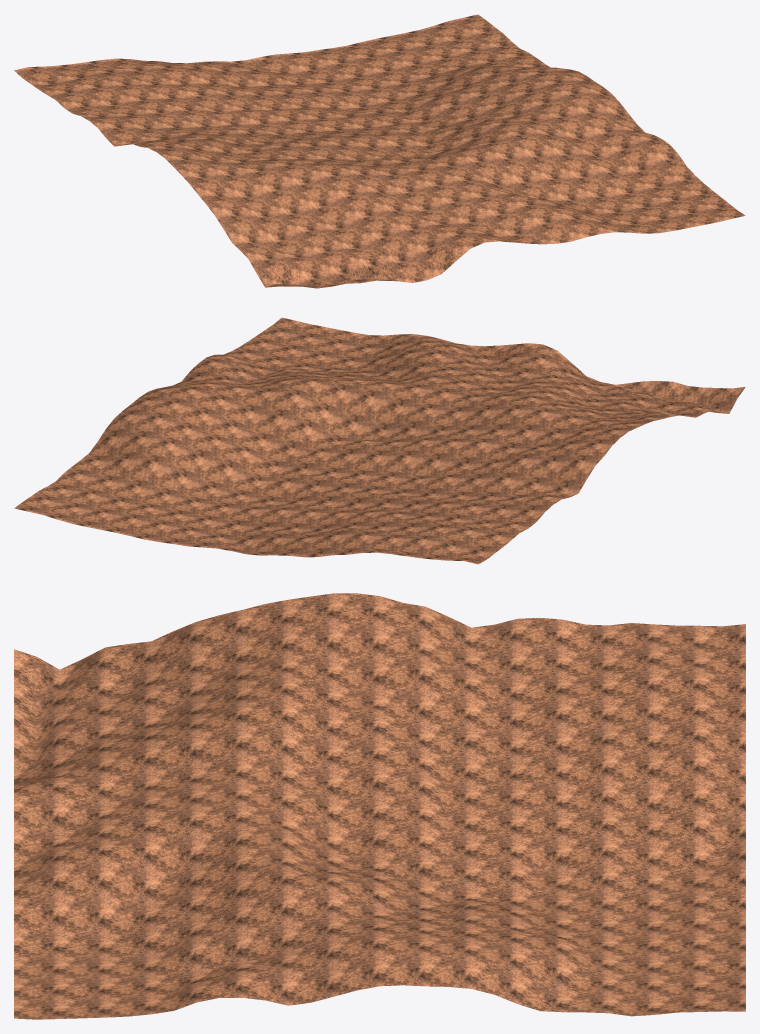
The model's file is terrain_03_01.dae.
3 views of the same model, one above another, from view 1: azimuth 30°, elevation 25°; view 2: azimuth 150°, elevation 25°; view 3: azimuth 270°, elevation 25° (orthographic). The views are drawn at different scales.
Parts seen in each view (by area): view 1: terrain_03_01-node; view 2: terrain_03_01-node; view 3: terrain_03_01-node.
Boxes of the visible parts, bbox=[...] form: terrain_03_01-node: bbox=[14, 14, 745, 288]; terrain_03_01-node: bbox=[14, 317, 745, 564]; terrain_03_01-node: bbox=[14, 593, 745, 1019].
Size of the model in its own units: 128 by 128 by 22.59.
1 material, 1 textured.
